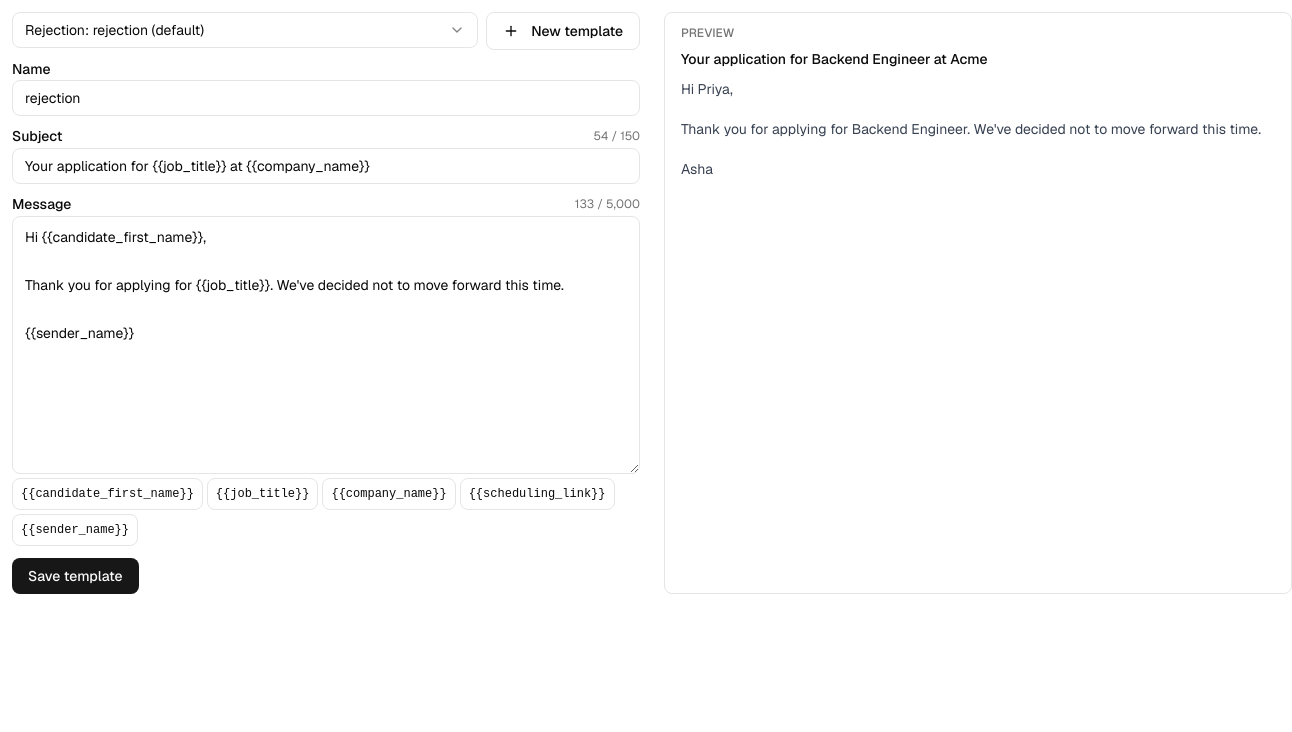
Scenario: TemplateEditor (PLT-064) › inserts a variable chip at the cursor
This screenshot has width=1292, height=732.
Replace the text in the text box labelled "Message" with "Hi , thanks" at (326, 345), box [12, 216, 640, 474]
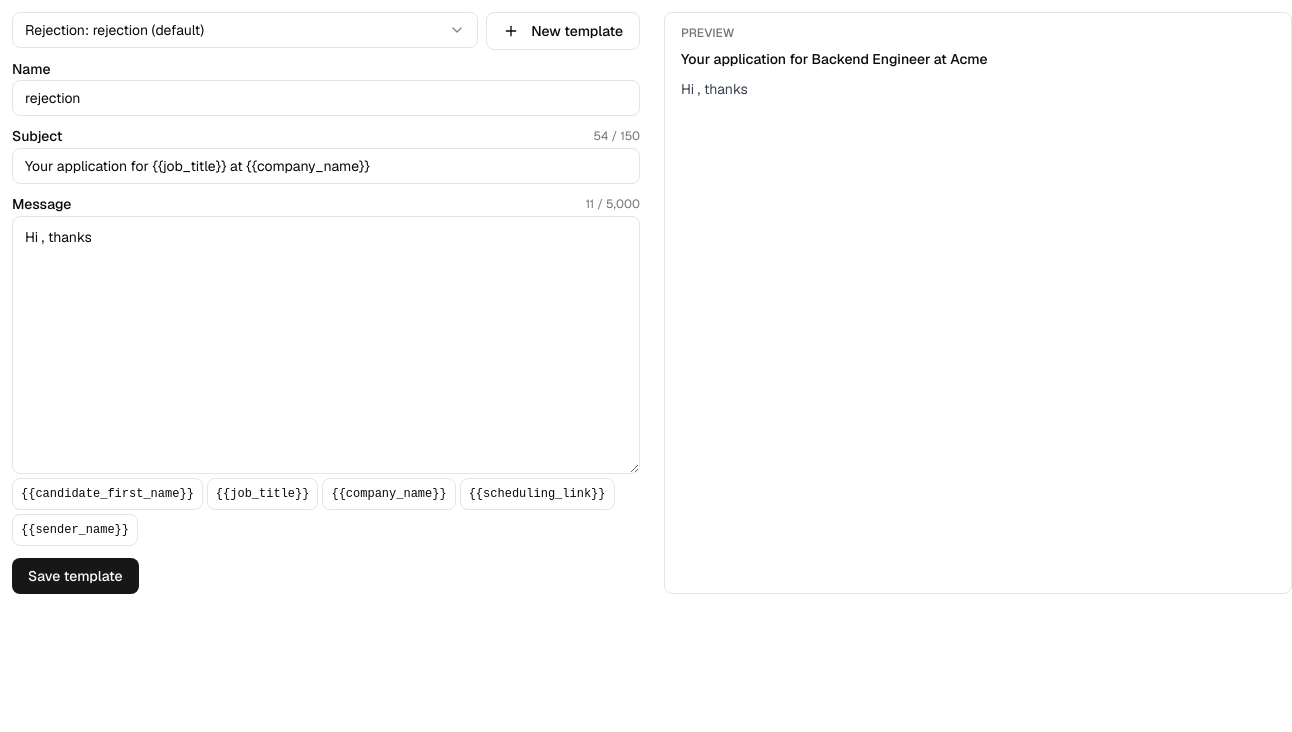
Click the button with aria-label "Insert {{candidate_first_name}}" at (107, 494), box [12, 478, 203, 510]
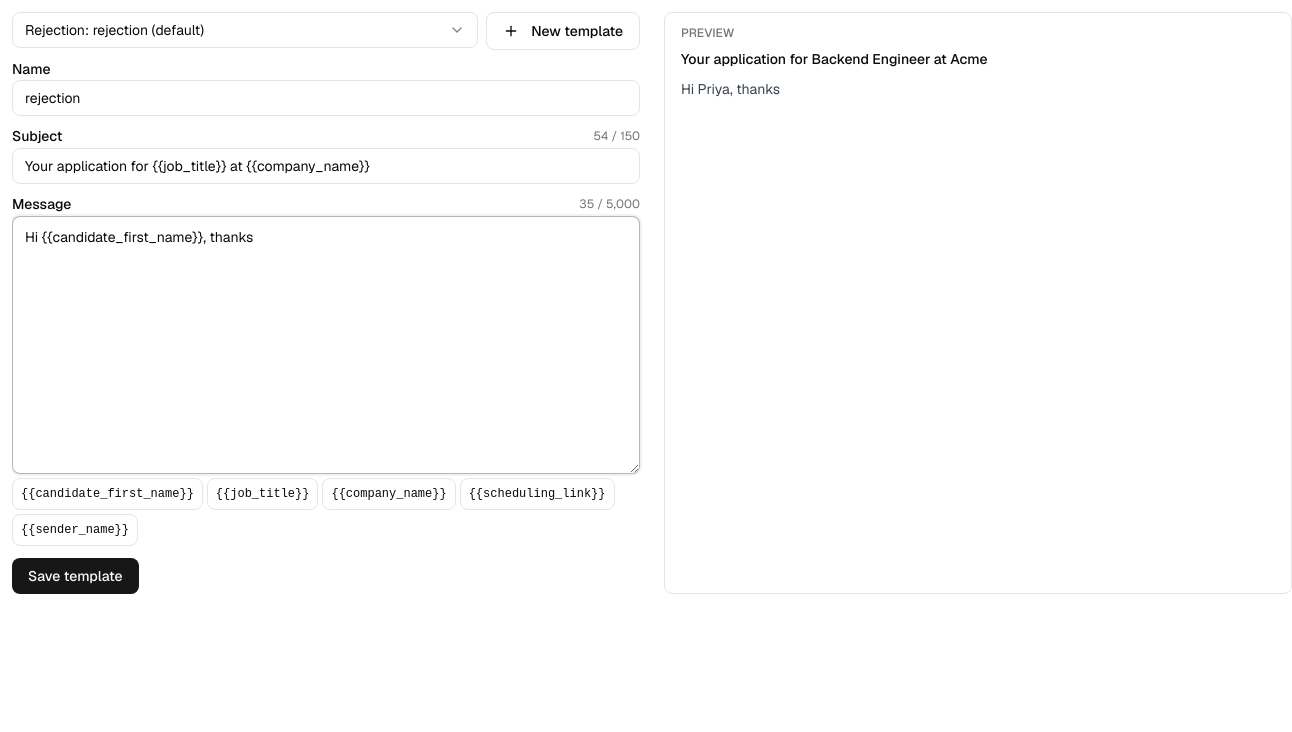
Expected: the text box labelled "Message" holds "Hi {{candidate_first_name}}, thanks", [12, 216, 640, 474]
